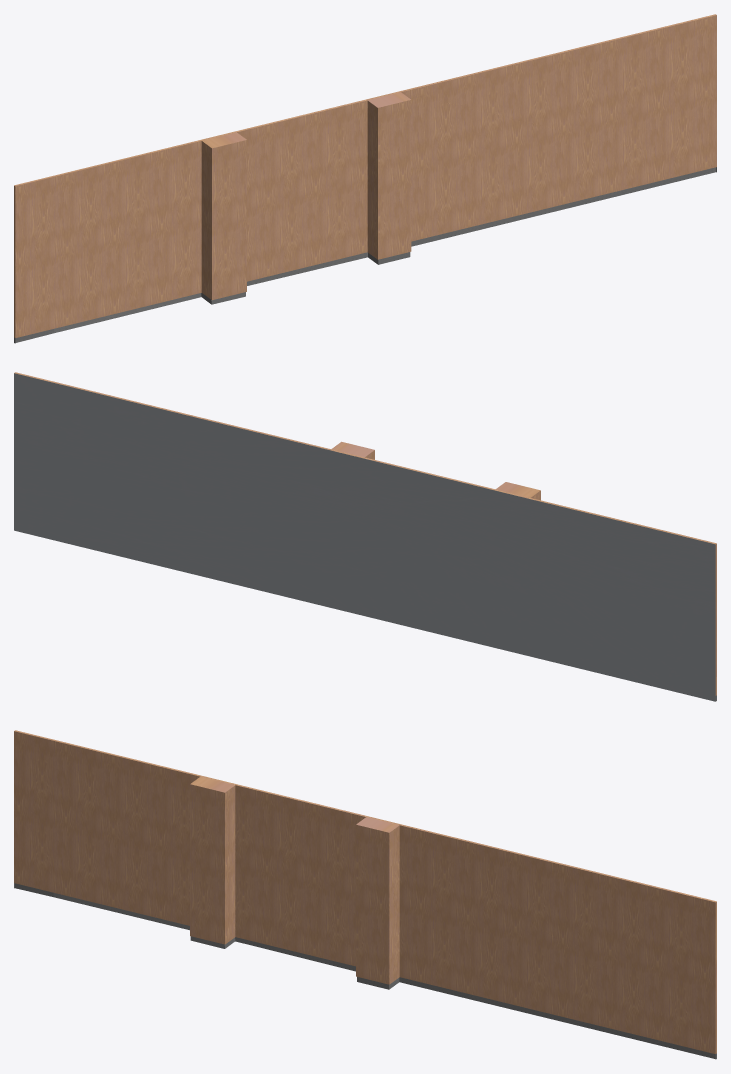
Rendered from 317 오른벽.fbx.
The picture shows the model from 3 angles, top to bottom: view 1: azimuth 30°, elevation 25°; view 2: azimuth 150°, elevation 25°; view 3: azimuth 330°, elevation 25°; orthographic projection.
Visible parts, largest first — view 1: 우측벽; view 2: 우측벽; view 3: 우측벽.
Boxes of the visible parts, left/top/right/bottom form: 우측벽: left=14, top=14, right=716, bottom=343; 우측벽: left=14, top=372, right=716, bottom=701; 우측벽: left=14, top=730, right=716, bottom=1059.
Bounding box in the file's own units: 2443 × 524 × 70.26.
